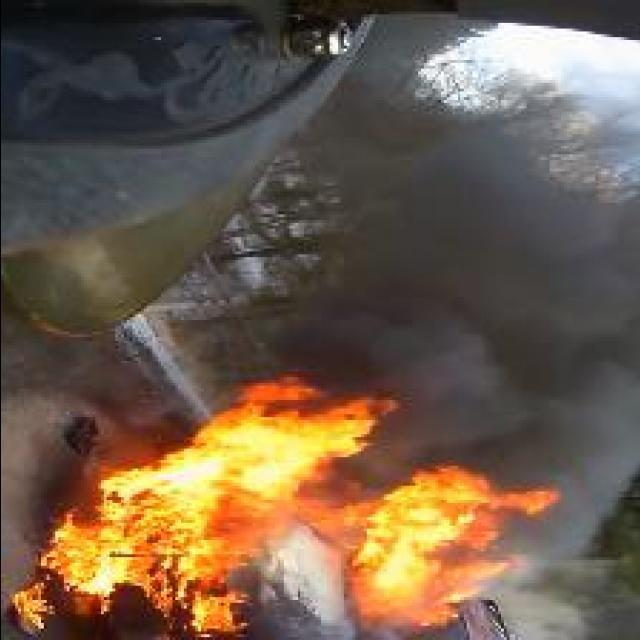Fire: (8, 377, 394, 640), (352, 466, 558, 628)
